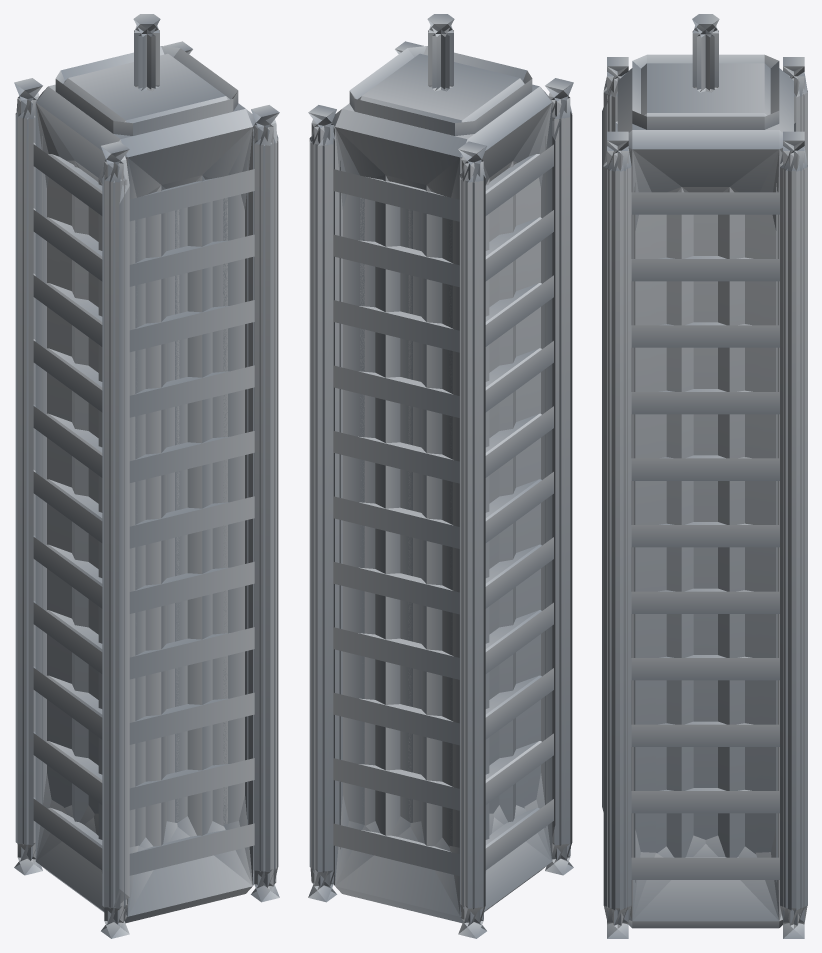
Rendered from dt_glass_tower.fbx.
3 views of the same model, side by side, from view 1: azimuth 30°, elevation 25°; view 2: azimuth 150°, elevation 25°; view 3: azimuth 270°, elevation 25° (orthographic).
Parts seen in each view (by area): view 1: dt_glass_tower; view 2: dt_glass_tower; view 3: dt_glass_tower.
Part boxes in pixels (<box>): dt_glass_tower: <box>14,14,279,938</box>; dt_glass_tower: <box>308,14,573,938</box>; dt_glass_tower: <box>602,14,807,938</box>.
Size of the model in its own units: 1264 by 6000 by 1275.
